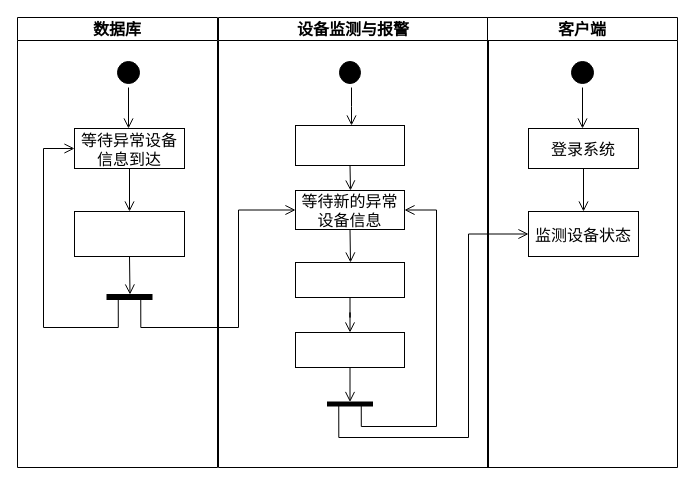
Image size: 695x485. Some labels were removed from this diagram. The centre of each missing label's shape, as x and y in pixels:
发布新信息: [129,233]
存入数据库: [349,280]
推送异常 设备信息: [349,350]
订阅数据库: [349,145]
